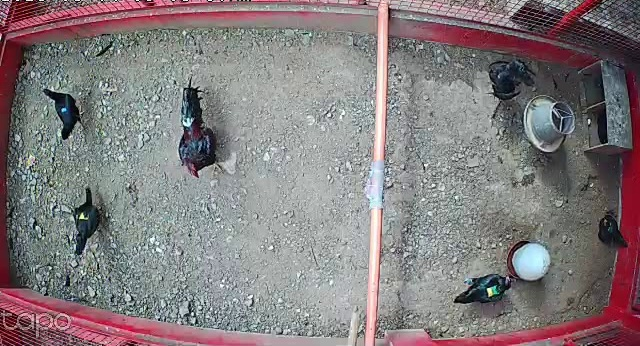Chicken: (42, 77, 86, 154), (484, 55, 540, 108), (70, 180, 105, 257), (454, 268, 516, 311), (596, 209, 633, 251)
Rooster: (176, 74, 227, 180)
Saddle_Color_Blue: (62, 107, 69, 113)
Saddle_Color_Yellow: (79, 211, 91, 220)
Saddle_Color_YellowGreen: (486, 284, 499, 298)
